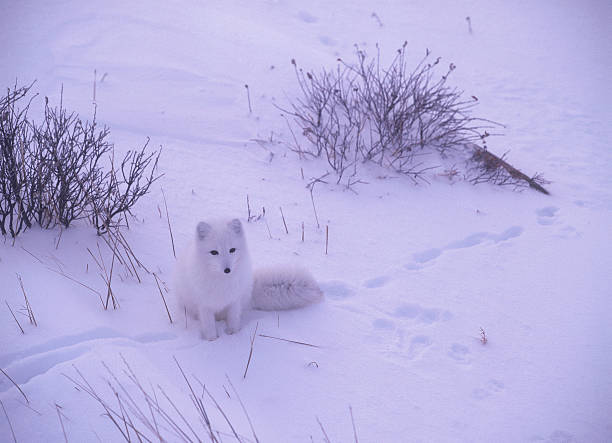arcticfox: (194, 228, 247, 281)
